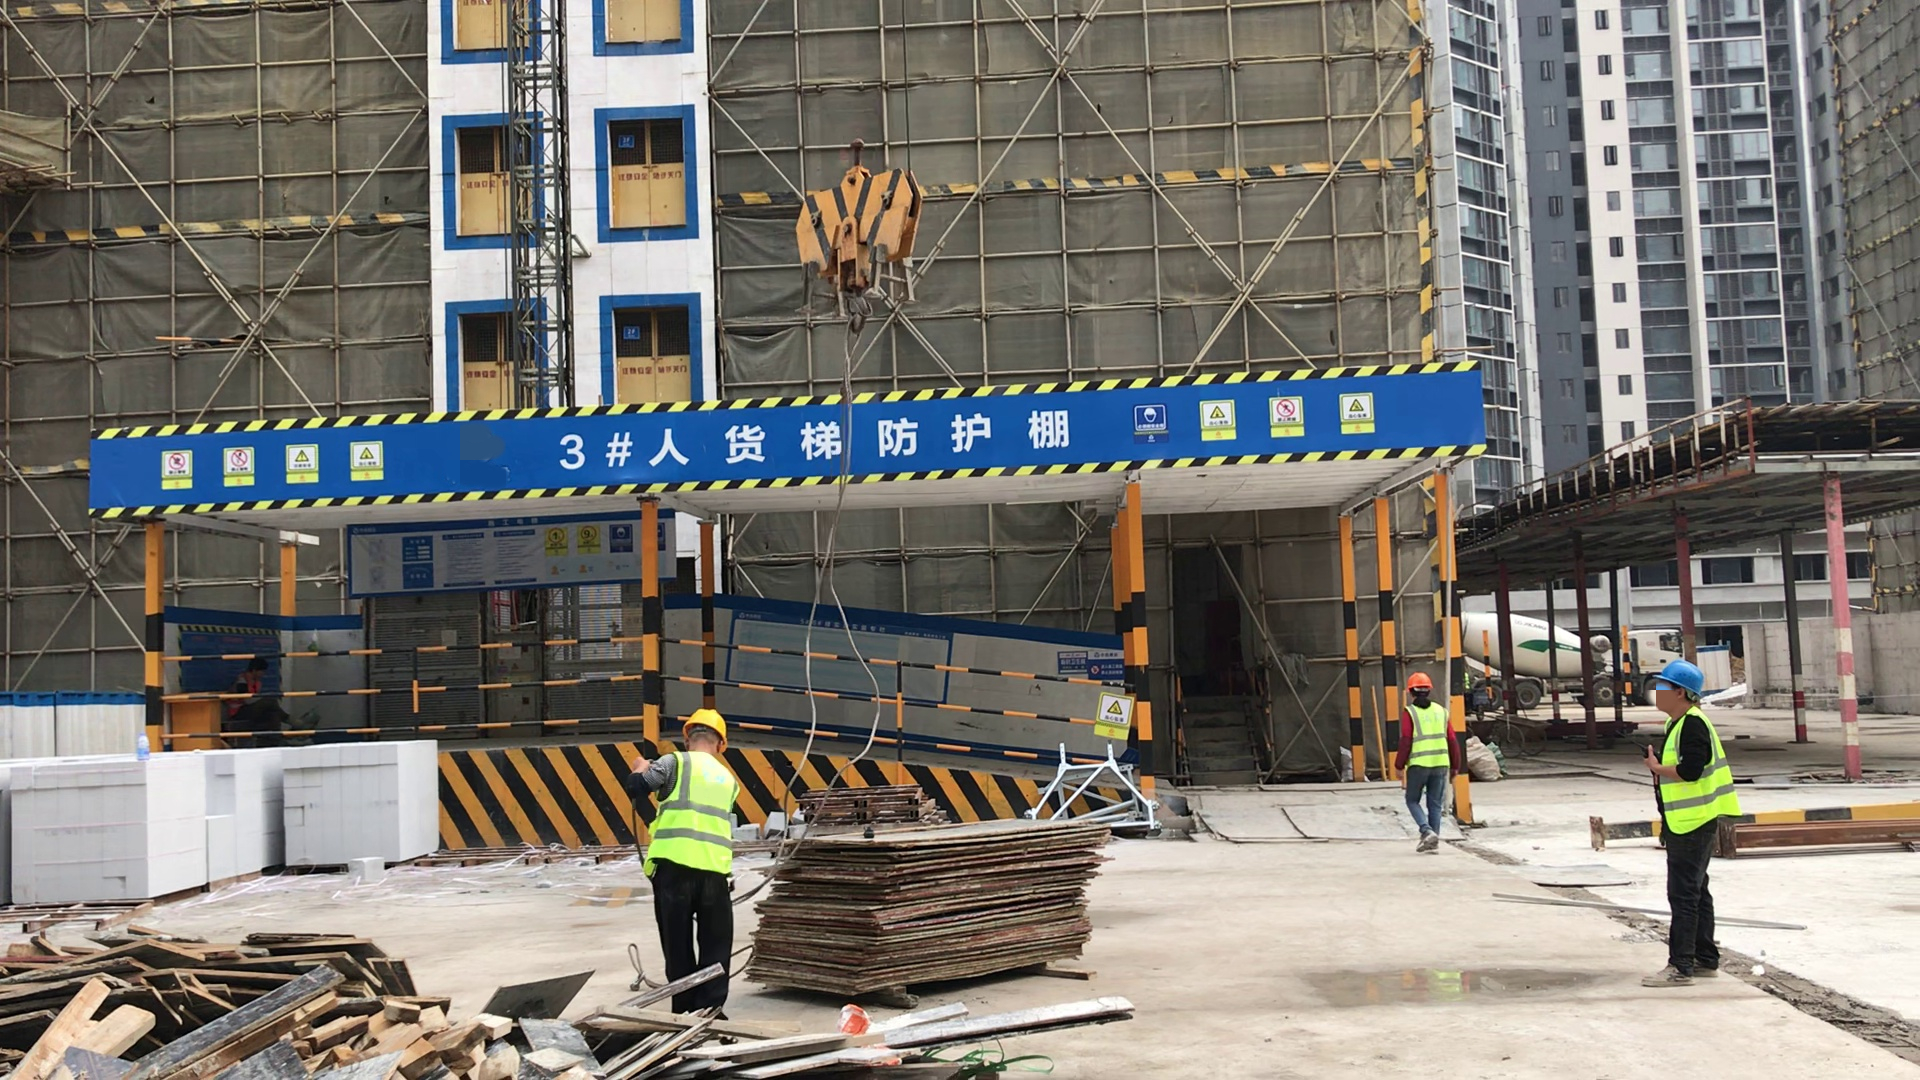board: (751, 812, 1120, 1003)
brick: (3, 739, 437, 906)
helmet: (1652, 657, 1704, 698), (682, 708, 729, 746), (1407, 674, 1432, 693)
hook: (794, 165, 923, 332)
person: (628, 706, 744, 1019), (1637, 657, 1740, 985), (1396, 674, 1463, 854)
slogan: (1126, 392, 1381, 438), (150, 445, 400, 484), (538, 525, 672, 577), (1053, 644, 1126, 683), (1093, 691, 1137, 742)
vest: (643, 750, 739, 879), (1656, 707, 1740, 838), (1404, 703, 1450, 767)
